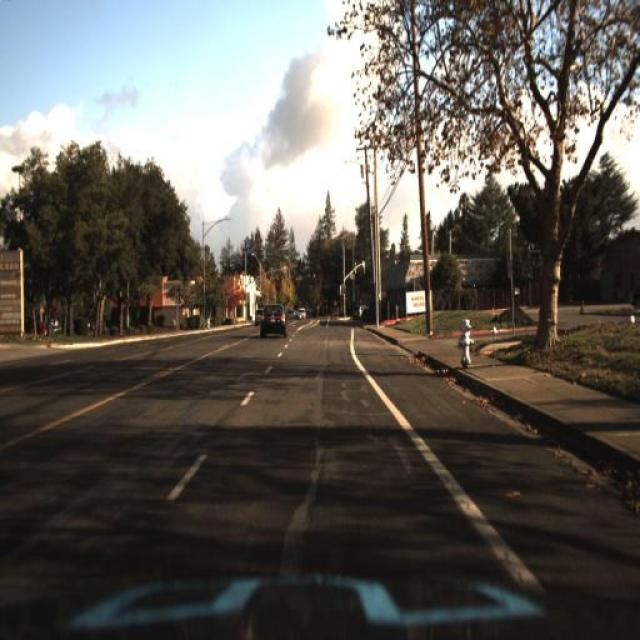car: (258, 300, 291, 340), (251, 302, 263, 326), (293, 302, 305, 322)
trafficLight-RedLeft: (311, 268, 318, 288)
